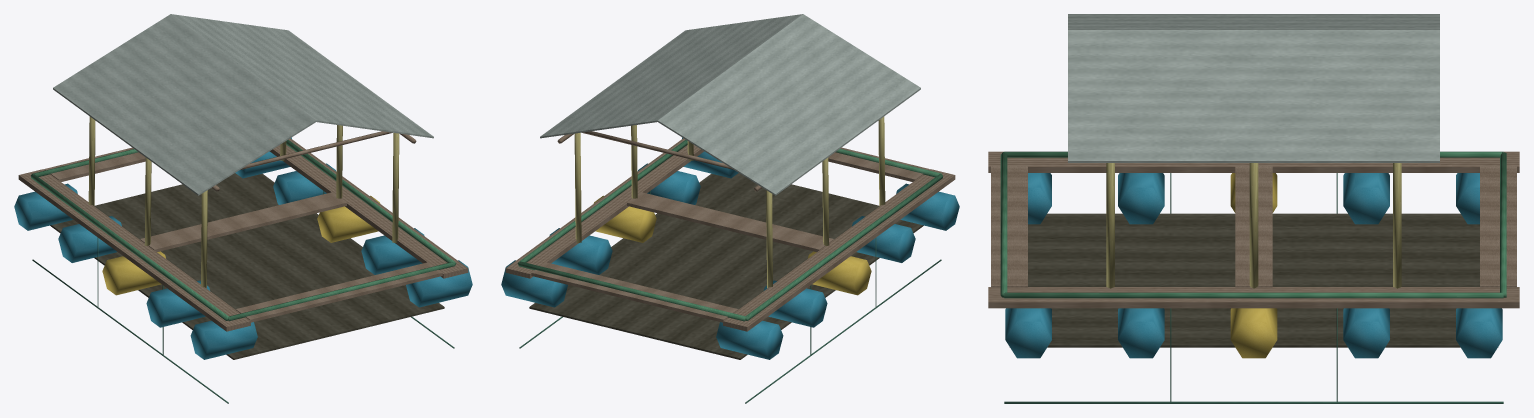
File: bung-raft-1-grey-mid.glb
3 views of the same model, side by side, from view 1: azimuth 30°, elevation 25°; view 2: azimuth 150°, elevation 25°; view 3: azimuth 270°, elevation 25° (orthographic). The views are drawn at different scales.
Visible parts, largest first — view 1: bung-raft-1-grey-mid; view 2: bung-raft-1-grey-mid; view 3: bung-raft-1-grey-mid.
Part boxes in pixels (x1,y1,x2,y2): bung-raft-1-grey-mid: (14, 14, 472, 403); bung-raft-1-grey-mid: (501, 14, 959, 403); bung-raft-1-grey-mid: (988, 14, 1519, 403).
Size of the model in its own units: 4.84 by 4.17 by 6.6.
Materials: 1 (1 with a texture image).
